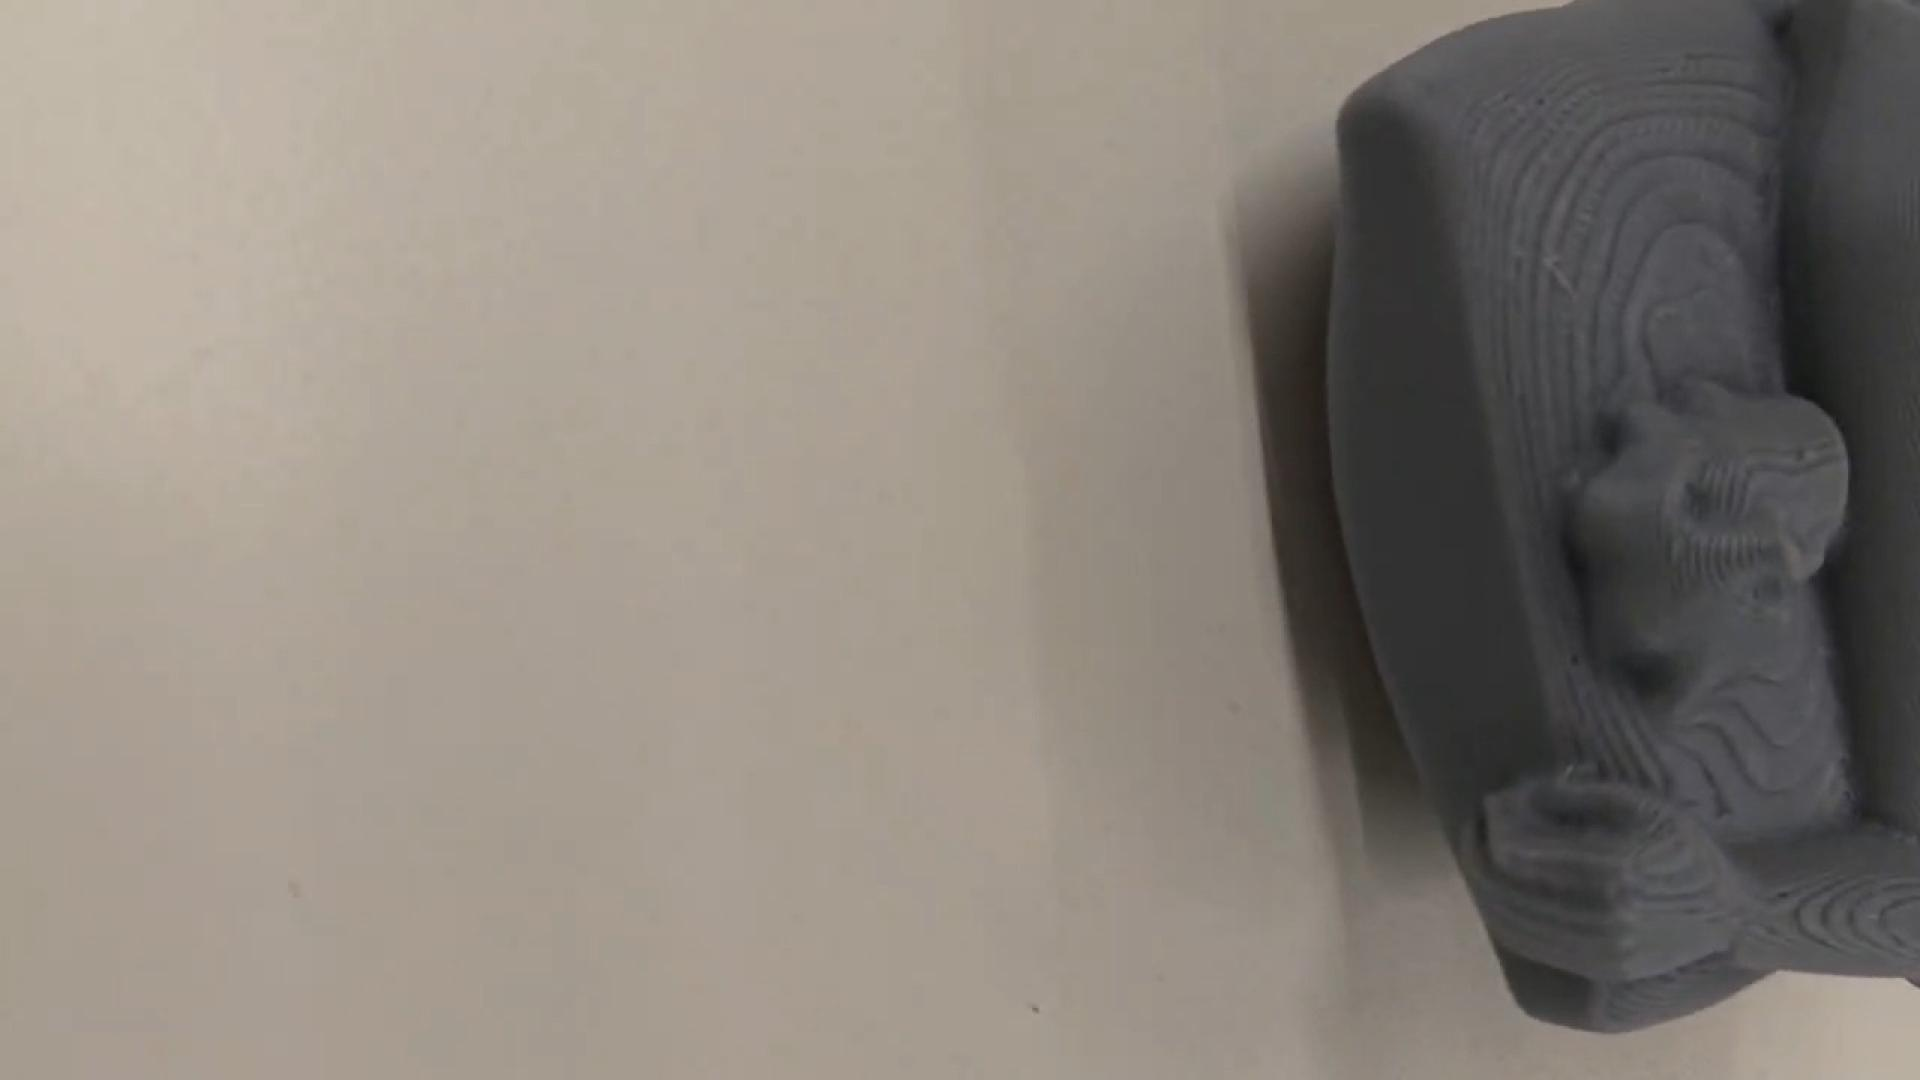Bad-style: (1328, 0, 1920, 1033)
